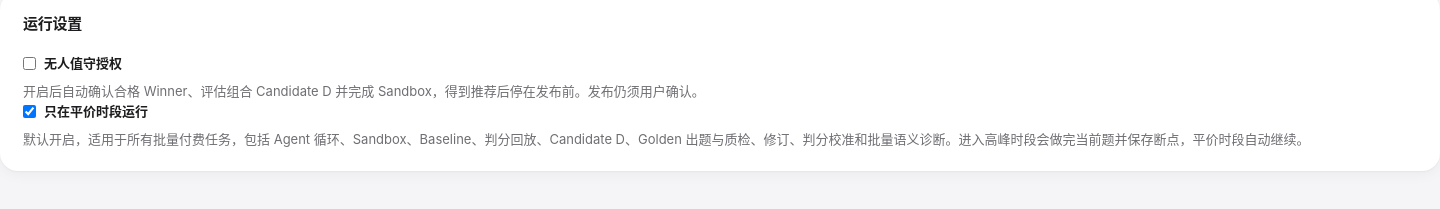
Test: persists visible unattended authorization with actor and never offers automatic publish
Step 1. Click the checkbox named "无人值守授权" → (30, 63), box [23,57,36,70]
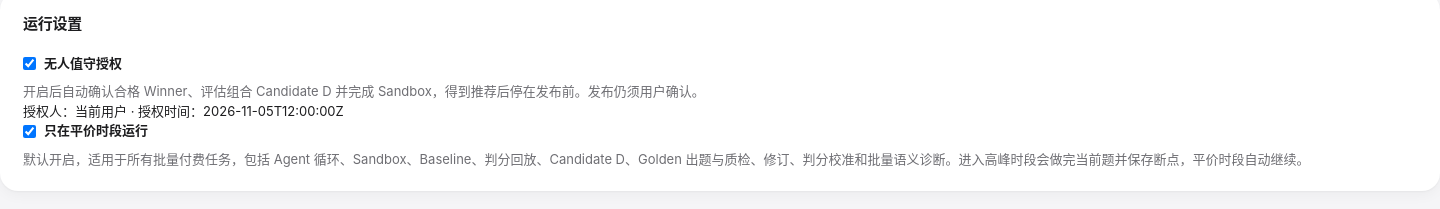
Expected: the text "停在发布前" is shown, [23,83,705,99]
Expected: the text "2026-11-05" is shown, [203,103,344,119]
